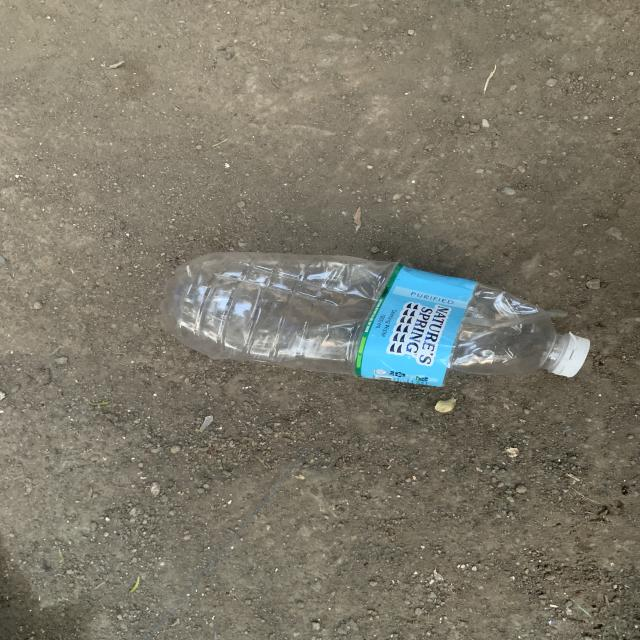Bottle: (162, 252, 590, 387)
